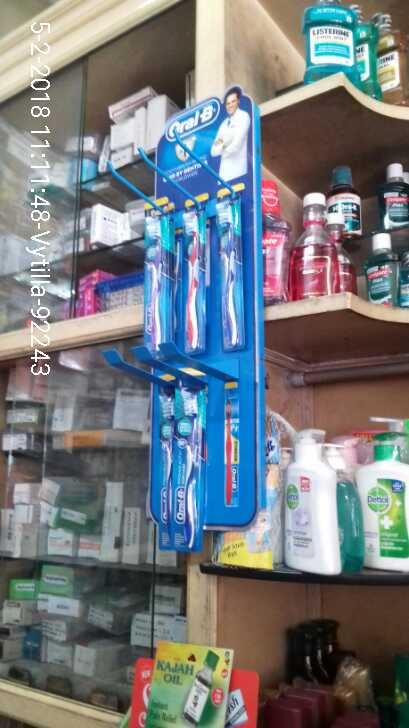oralb: (215, 180, 249, 352), (173, 368, 202, 545), (141, 198, 174, 350), (179, 192, 208, 354)
